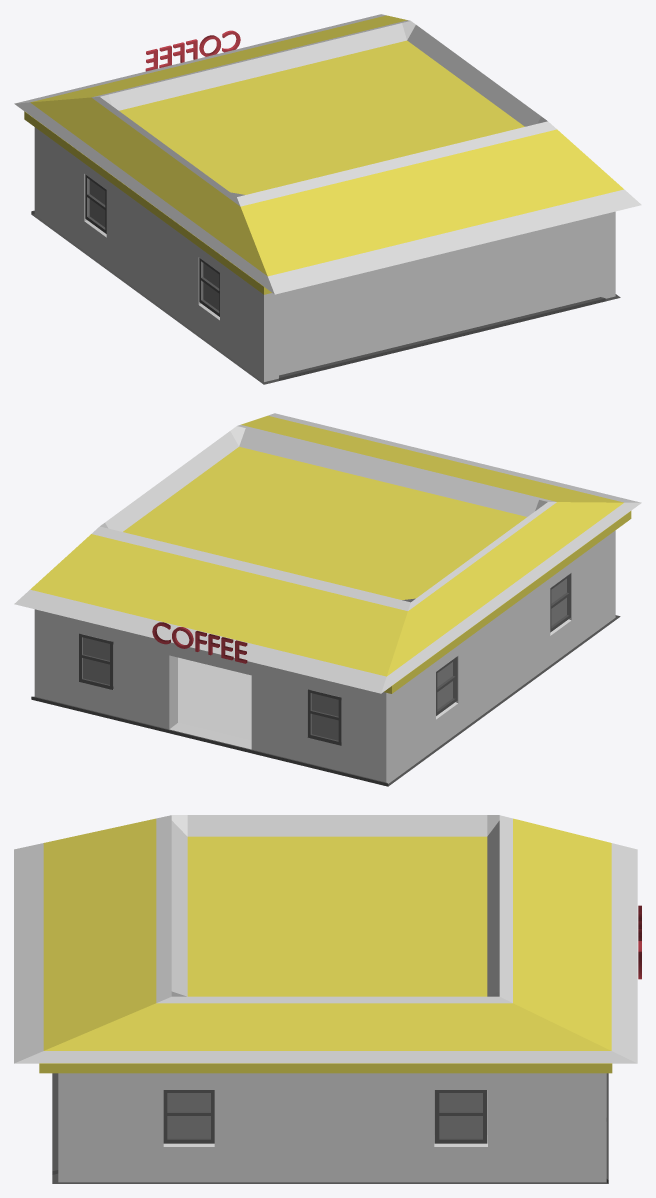
File: coffee shop.fbx
3 renders of one model, top to bottom at view 1: azimuth 30°, elevation 25°; view 2: azimuth 150°, elevation 25°; view 3: azimuth 270°, elevation 25°, orthographic. The views are drawn at different scales.
Visible parts, largest first — view 1: Coffe shop roof, Coffee shop; view 2: Coffe shop roof, Coffee shop; view 3: Coffe shop roof, Coffee shop.
Boxes of the visible parts, box(x1,y1,x2,y2) form: Coffe shop roof: box(14, 14, 641, 294); Coffee shop: box(24, 111, 620, 384); Coffe shop roof: box(14, 413, 641, 693); Coffee shop: box(31, 511, 631, 786); Coffe shop roof: box(14, 815, 641, 1063); Coffee shop: box(39, 1063, 612, 1183).
Bounding box in the file's own units: 27.24 × 10.3 × 33.73.
